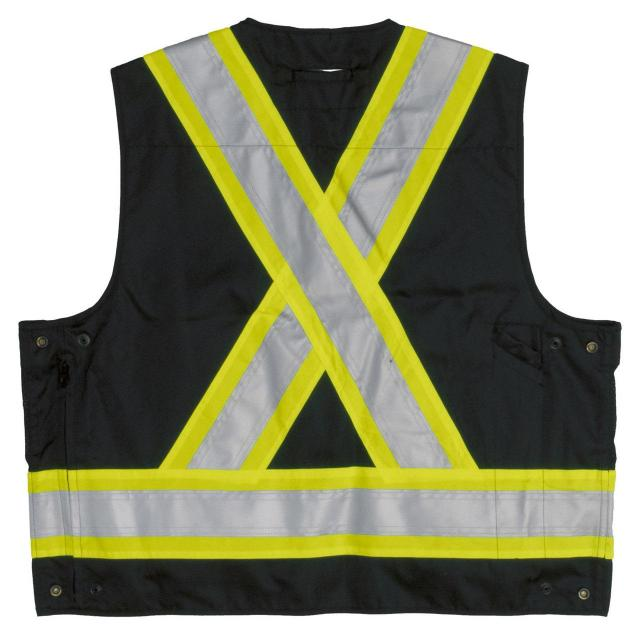Reflective-Jacket: (18, 3, 636, 640)
